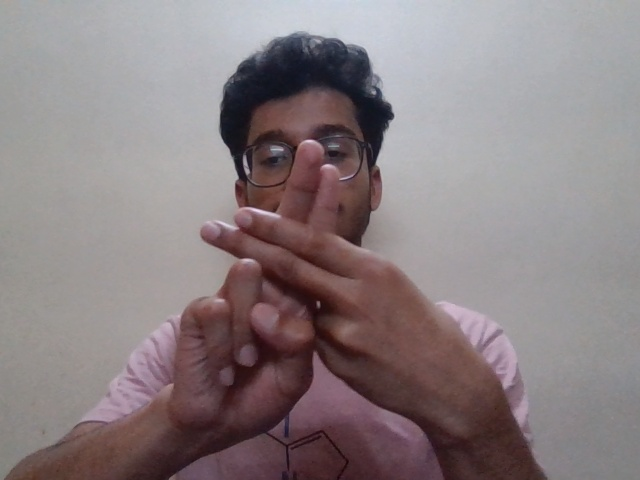disabled: (123, 133, 526, 451)
